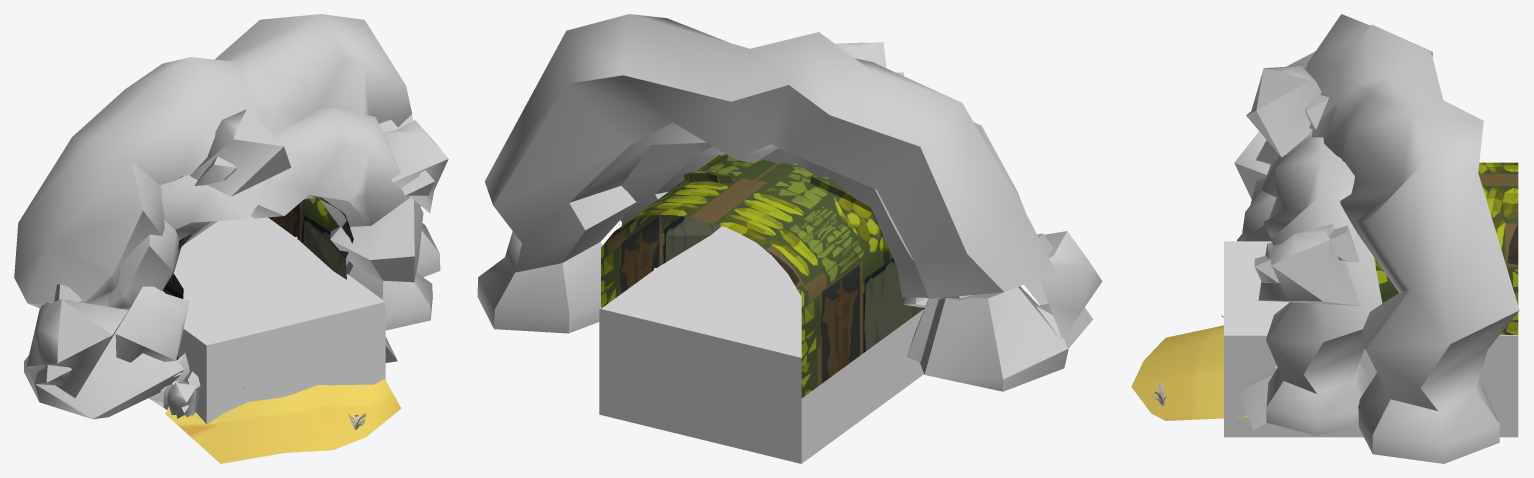
The model's file is exit_room_final.FBX.
3 renders of one model, left to right at view 1: azimuth 30°, elevation 25°; view 2: azimuth 150°, elevation 25°; view 3: azimuth 270°, elevation 25°, orthographic. The views are drawn at different scales.
Parts seen in each view (by area): view 1: Cylinder055, Room_size_BOX, Plane011, Line051; view 2: Cylinder055, Room_size_BOX, Line051; view 3: Cylinder055, Room_size_BOX, Plane011, Line051.
Boxes of the visible parts, left/top/right/bottom form: Cylinder055: left=14, top=14, right=448, bottom=419; Room_size_BOX: left=164, top=216, right=385, bottom=424; Plane011: left=165, top=379, right=401, bottom=463; Line051: left=162, top=196, right=353, bottom=359; Cylinder055: left=477, top=14, right=1102, bottom=391; Room_size_BOX: left=599, top=226, right=924, bottom=463; Line051: left=601, top=154, right=924, bottom=397; Cylinder055: left=1234, top=14, right=1519, bottom=463; Room_size_BOX: left=1224, top=241, right=1518, bottom=437; Plane011: left=1131, top=325, right=1247, bottom=420; Line051: left=1374, top=162, right=1518, bottom=334.
Bounding box in the file's own units: 4928 × 3294 × 3279.
